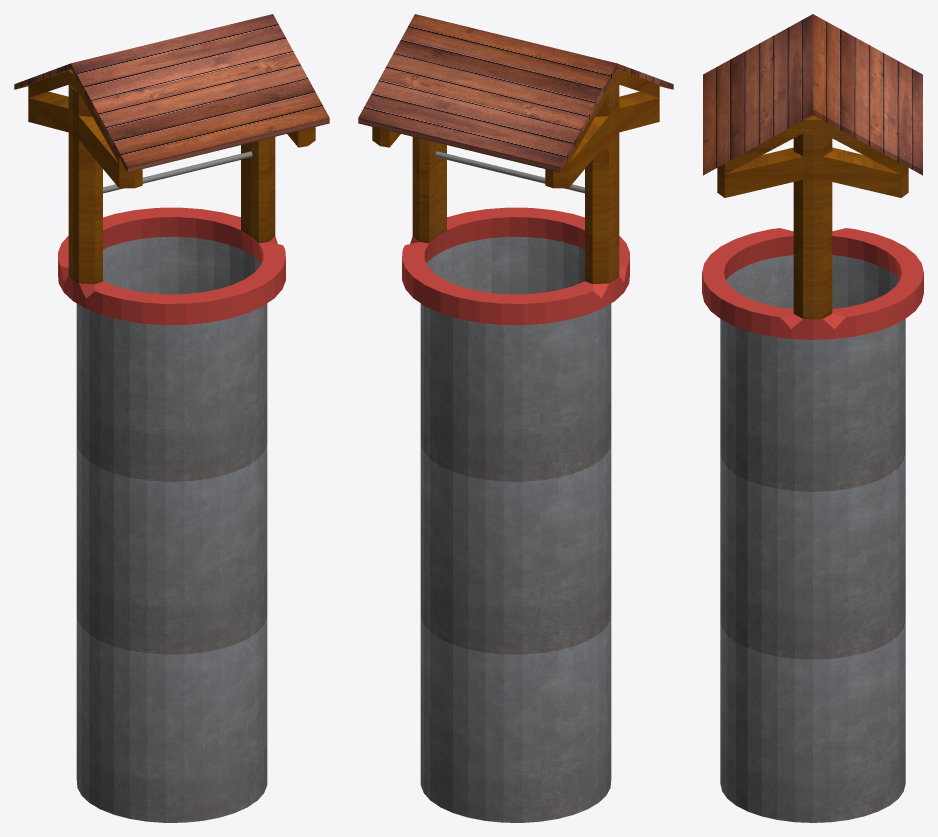
Rendered from Poço.fbx.
The picture shows the model from 3 angles, left to right: view 1: azimuth 30°, elevation 25°; view 2: azimuth 150°, elevation 25°; view 3: azimuth 270°, elevation 25°; orthographic projection. The views are drawn at different scales.
Parts seen in each view (by area): view 1: Circle, Plane, Circle.001; view 2: Circle, Plane, Circle.001; view 3: Circle, Plane.
Part boxes in pixels (x1,y1,x2,y2): Circle: (28,69,315,822); Plane: (14,14,329,172); Circle.001: (103,151,252,193); Circle: (372,69,659,822); Plane: (358,14,673,172); Circle.001: (435,151,584,193); Circle: (702,115,923,822); Plane: (703,14,922,175).
Size of the model in its own units: 470 by 1653 by 460.
